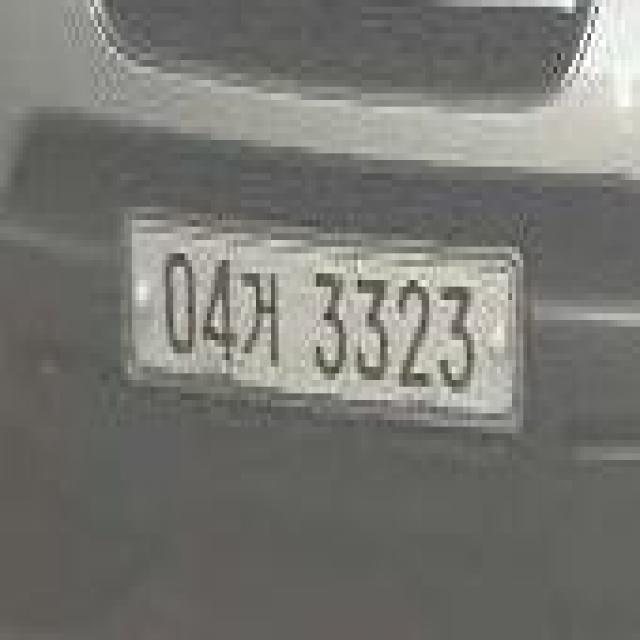illegal_plate: (119, 209, 532, 450)
